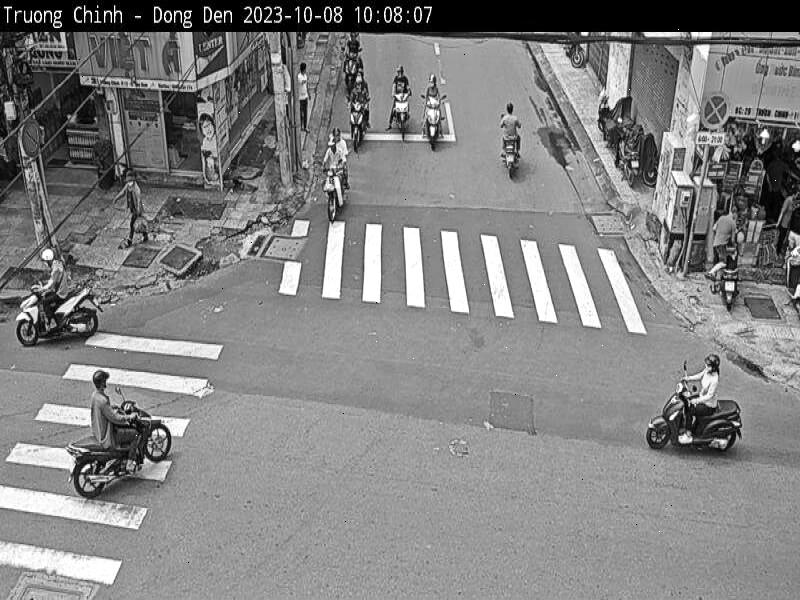motorcycle: (67, 416, 179, 499), (643, 396, 745, 456), (15, 284, 101, 348), (314, 158, 352, 224), (418, 89, 449, 152), (340, 93, 373, 152), (386, 89, 416, 141)
